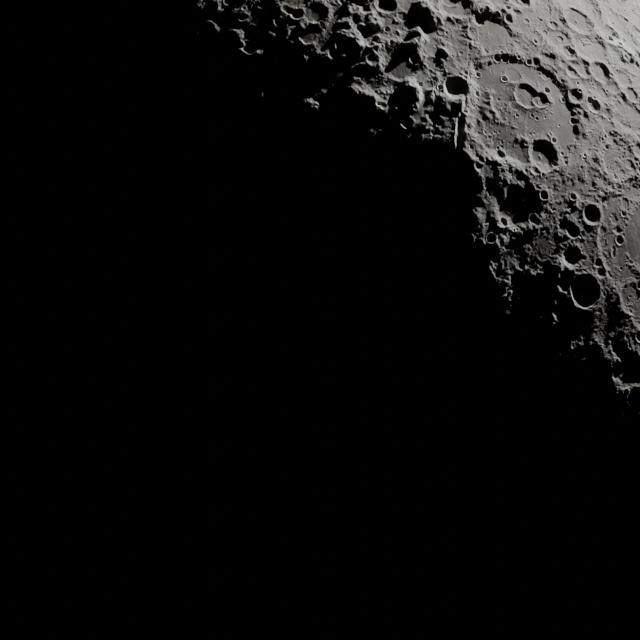crater: (568, 270, 604, 313), (529, 136, 559, 175), (512, 81, 548, 110), (442, 74, 473, 99), (559, 241, 587, 268), (586, 60, 613, 85), (580, 201, 603, 229), (565, 87, 587, 106)
